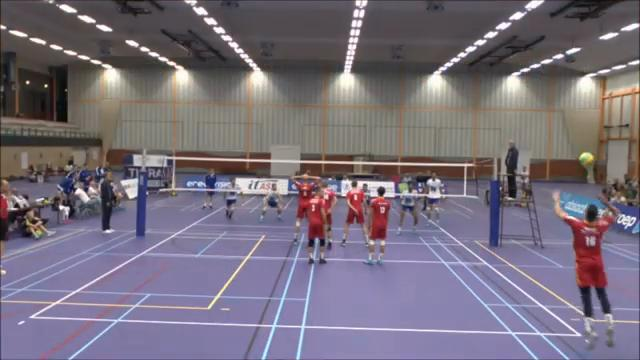Player: (291, 172, 319, 242), (365, 187, 390, 264), (341, 180, 367, 246), (307, 187, 326, 263), (321, 180, 337, 249), (397, 183, 417, 234), (260, 183, 282, 221), (426, 172, 441, 225), (224, 178, 243, 218), (362, 183, 370, 218)
Serve: (546, 182, 619, 349)
ball: (580, 152, 594, 169)
